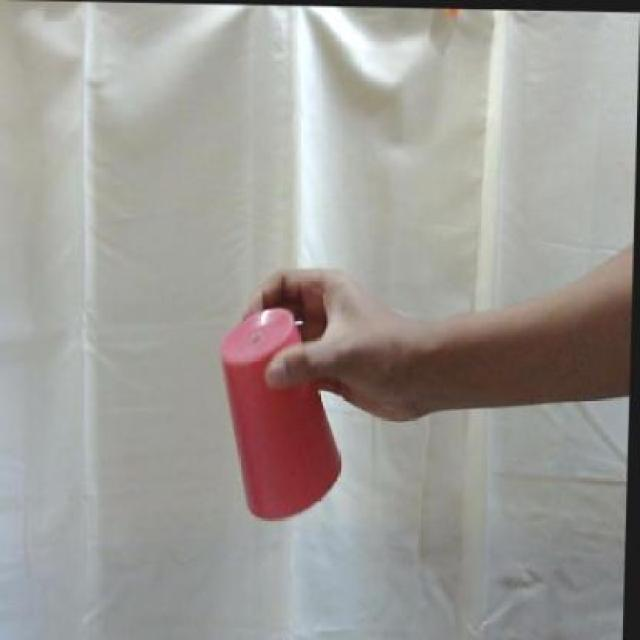Plastic: (214, 299, 353, 519)
